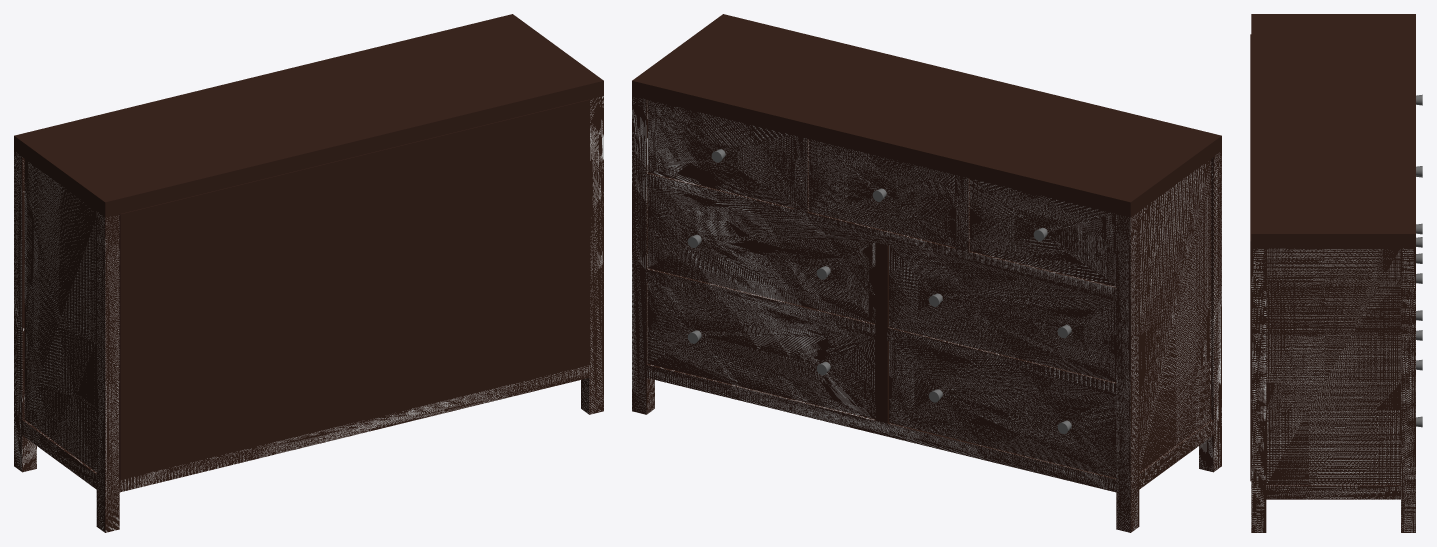
3 renders of one model, left to right at view 1: azimuth 30°, elevation 25°; view 2: azimuth 150°, elevation 25°; view 3: azimuth 270°, elevation 25°, orthographic. The views are drawn at different scales.
Parts seen in each view (by area): view 1: mesh3_mesh3-geometry, mesh18_mesh18-geometry, mesh5_mesh5-geometry, mesh7_mesh7-geometry, mesh6_mesh6-geometry; view 2: mesh14_mesh14-geometry, mesh3_mesh3-geometry, mesh17_mesh17-geometry, mesh18_mesh18-geometry, mesh5_mesh5-geometry, mesh7_mesh7-geometry, mesh8_mesh8-geometry, mesh1_mesh1-geometry, mesh9_mesh9-geometry, mesh6_mesh6-geometry; view 3: mesh3_mesh3-geometry, mesh18_mesh18-geometry, mesh5_mesh5-geometry, mesh6_mesh6-geometry, mesh10_mesh10-geometry, mesh12_mesh12-geometry, mesh15_mesh15-geometry.
Boxes of the visible parts, bbox=[...] form: mesh3_mesh3-geometry: bbox=[14, 14, 603, 479]; mesh18_mesh18-geometry: bbox=[24, 159, 96, 471]; mesh5_mesh5-geometry: bbox=[14, 96, 603, 532]; mesh7_mesh7-geometry: bbox=[119, 365, 589, 492]; mesh6_mesh6-geometry: bbox=[22, 419, 96, 489]; mesh14_mesh14-geometry: bbox=[647, 187, 1116, 477]; mesh3_mesh3-geometry: bbox=[632, 14, 1221, 217]; mesh17_mesh17-geometry: bbox=[647, 100, 1116, 286]; mesh18_mesh18-geometry: bbox=[1139, 159, 1211, 471]; mesh5_mesh5-geometry: bbox=[632, 96, 1221, 532]; mesh7_mesh7-geometry: bbox=[646, 172, 1116, 492]; mesh8_mesh8-geometry: bbox=[646, 268, 1116, 396]; mesh1_mesh1-geometry: bbox=[875, 242, 888, 423]; mesh9_mesh9-geometry: bbox=[794, 135, 969, 251]; mesh6_mesh6-geometry: bbox=[1139, 419, 1213, 489]; mesh3_mesh3-geometry: bbox=[1250, 14, 1415, 481]; mesh18_mesh18-geometry: bbox=[1266, 248, 1400, 484]; mesh5_mesh5-geometry: bbox=[1251, 248, 1415, 532]; mesh6_mesh6-geometry: bbox=[1266, 485, 1400, 499]; mesh10_mesh10-geometry: bbox=[1416, 223, 1422, 427]; mesh12_mesh12-geometry: bbox=[1416, 176, 1422, 370]; mesh15_mesh15-geometry: bbox=[1416, 94, 1422, 247].
Size of the model in its own units: 0.8136 by 0.5153 by 0.2692.
